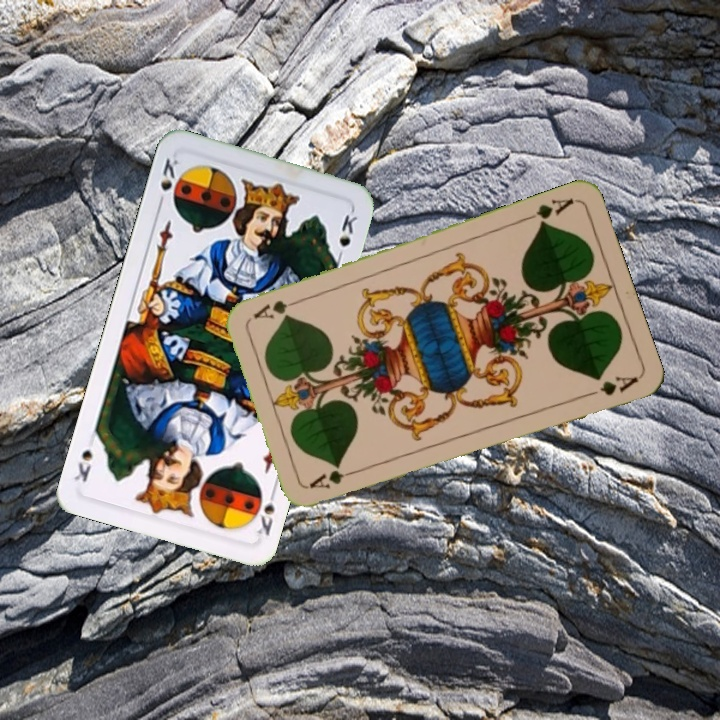GA: (520, 194, 576, 229), (306, 464, 364, 491)
SK: (154, 154, 181, 210), (253, 484, 279, 539)
